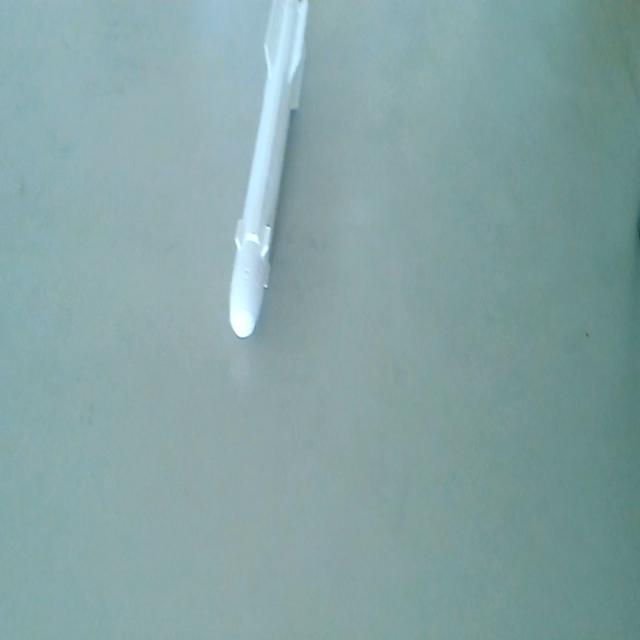Rocket: (228, 0, 314, 340)
